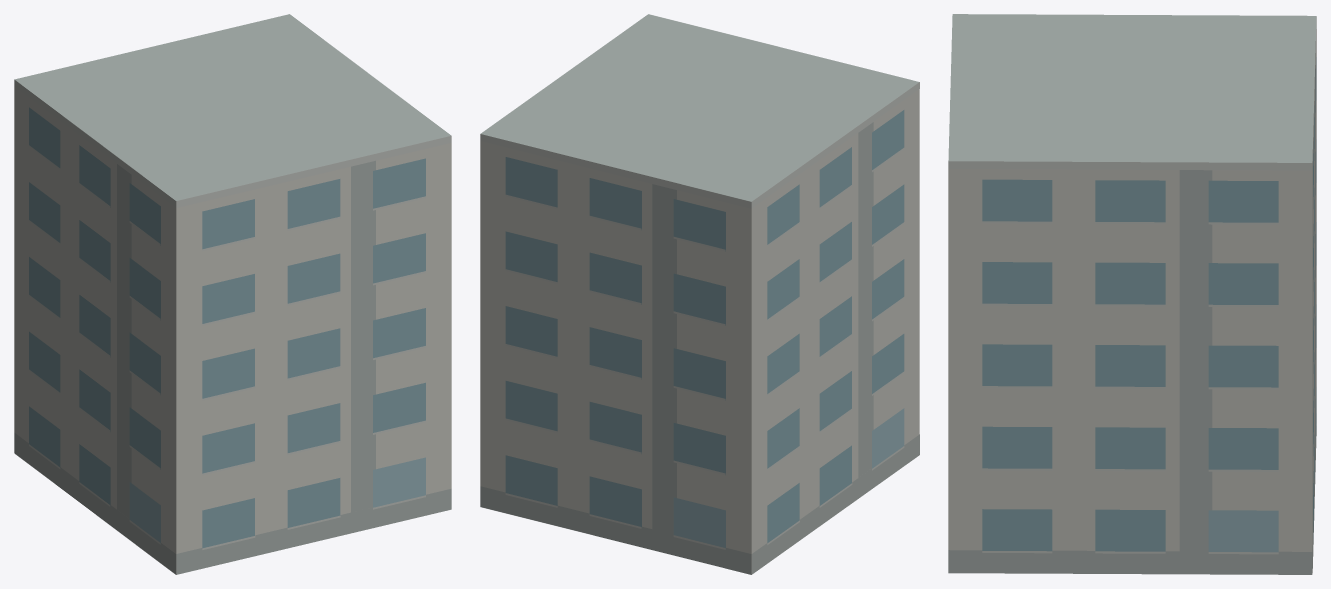
The model's file is survey-upis-32725779.glb.
3 renders of one model, left to right at view 1: azimuth 30°, elevation 25°; view 2: azimuth 150°, elevation 25°; view 3: azimuth 270°, elevation 25°, orthographic. The views are drawn at different scales.
Parts seen in each view (by area): view 1: survey-upis-32725779.tmp; view 2: survey-upis-32725779.tmp; view 3: survey-upis-32725779.tmp.
Part boxes in pixels (x1,y1,x2,y2): survey-upis-32725779.tmp: (14,14,451,574); survey-upis-32725779.tmp: (480,14,919,574); survey-upis-32725779.tmp: (948,14,1316,574).
Bounding box in the file's own units: 10.09 × 13 × 10.54.
